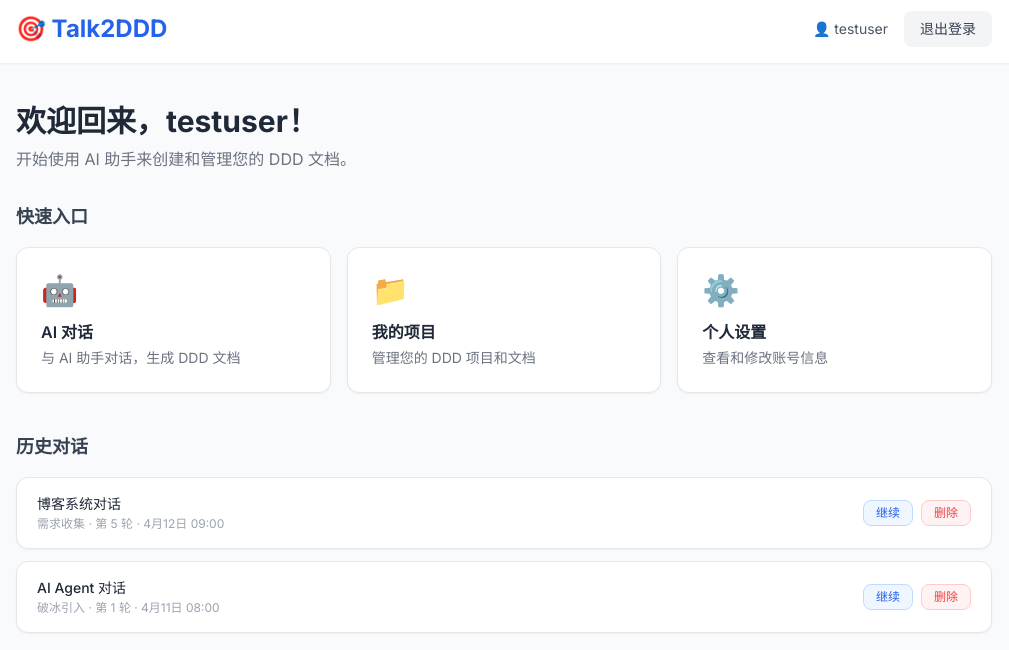
Test: DashboardPage › removes a session from the list when delete button is clicked
This screenshot has width=1009, height=650.
Expected: the text "博客系统对话" is shown, [37,495,121,512]
Click the button with aria-label "delete session aaaaaaaa-0000-4000-8000-000000000001". click: (946, 513)
box: [921,500,971,526]
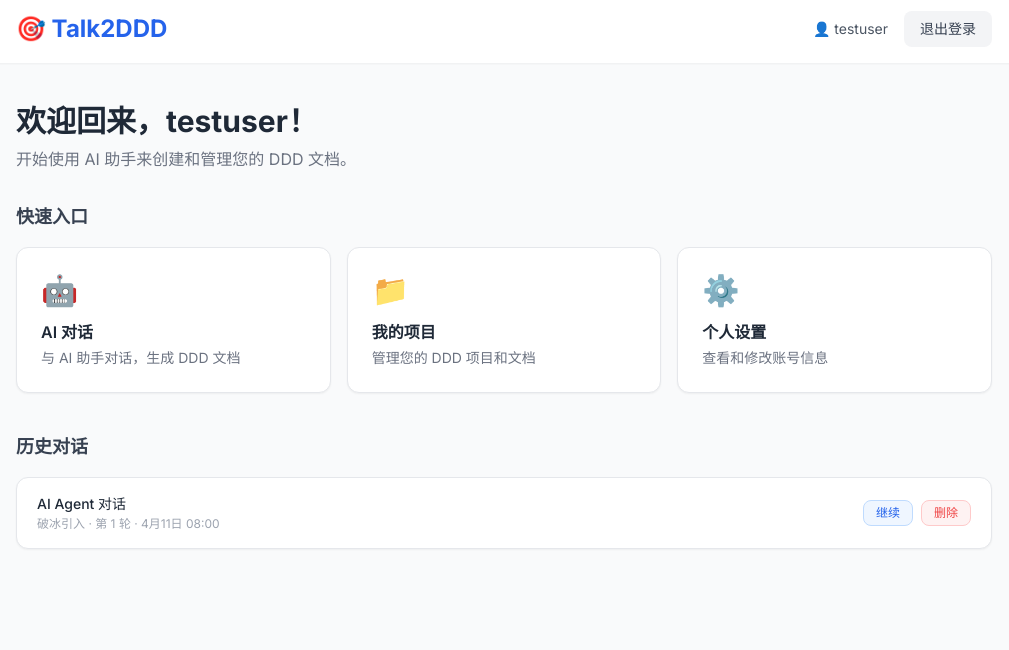
Expected: the text "博客系统对话" is gone
